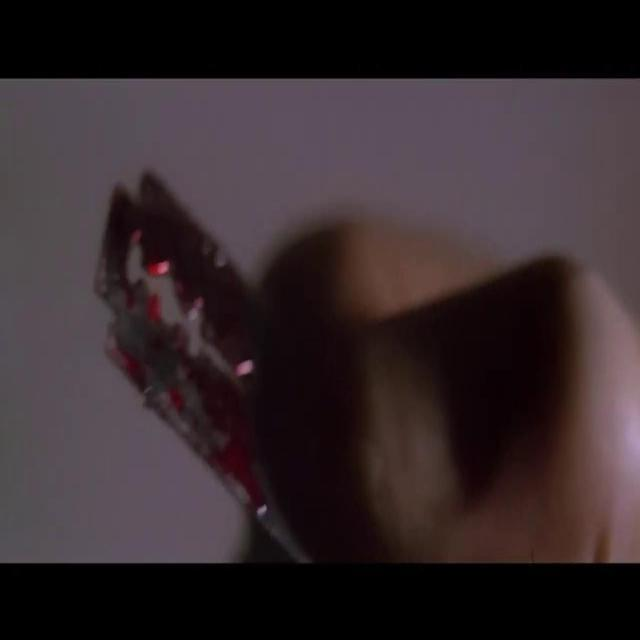flood: (114, 172, 252, 386)
